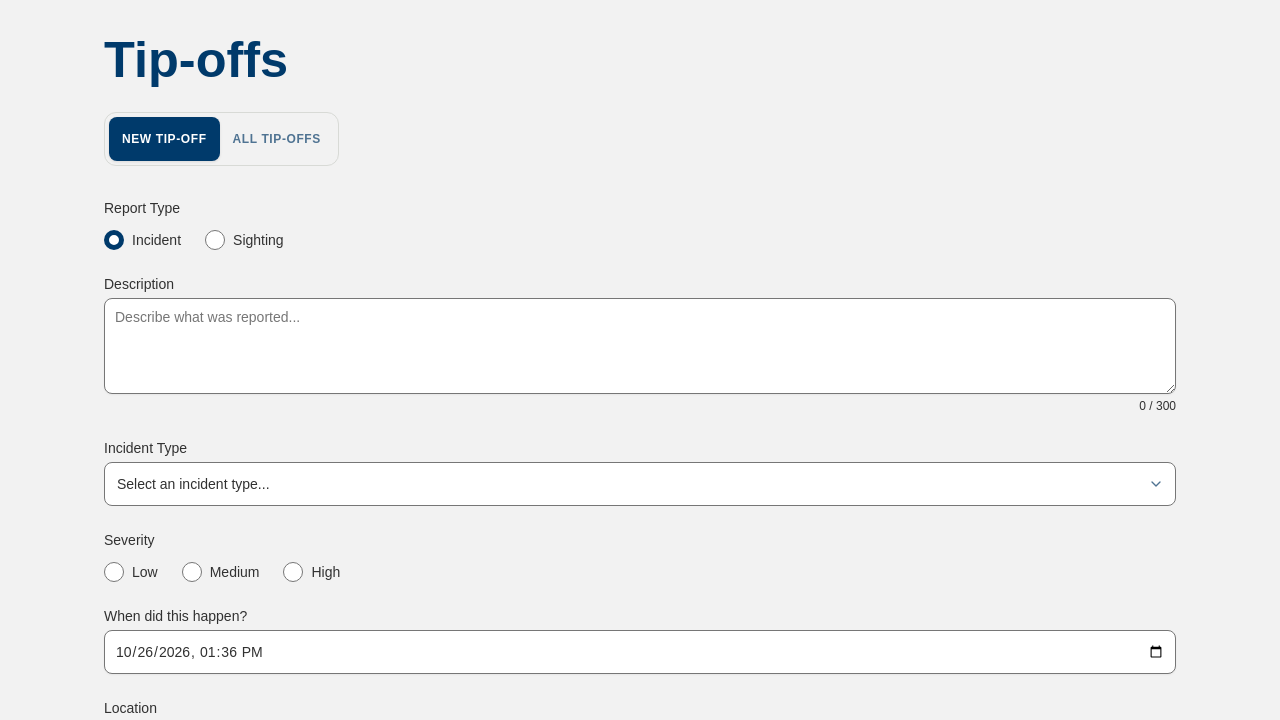
Test case: TipoffPage › fetches and renders tip-offs for an admin
This screenshot has width=1280, height=720.
Click the tab "All Tip-offs".
click(277, 139)  # box [220,117,334,161]
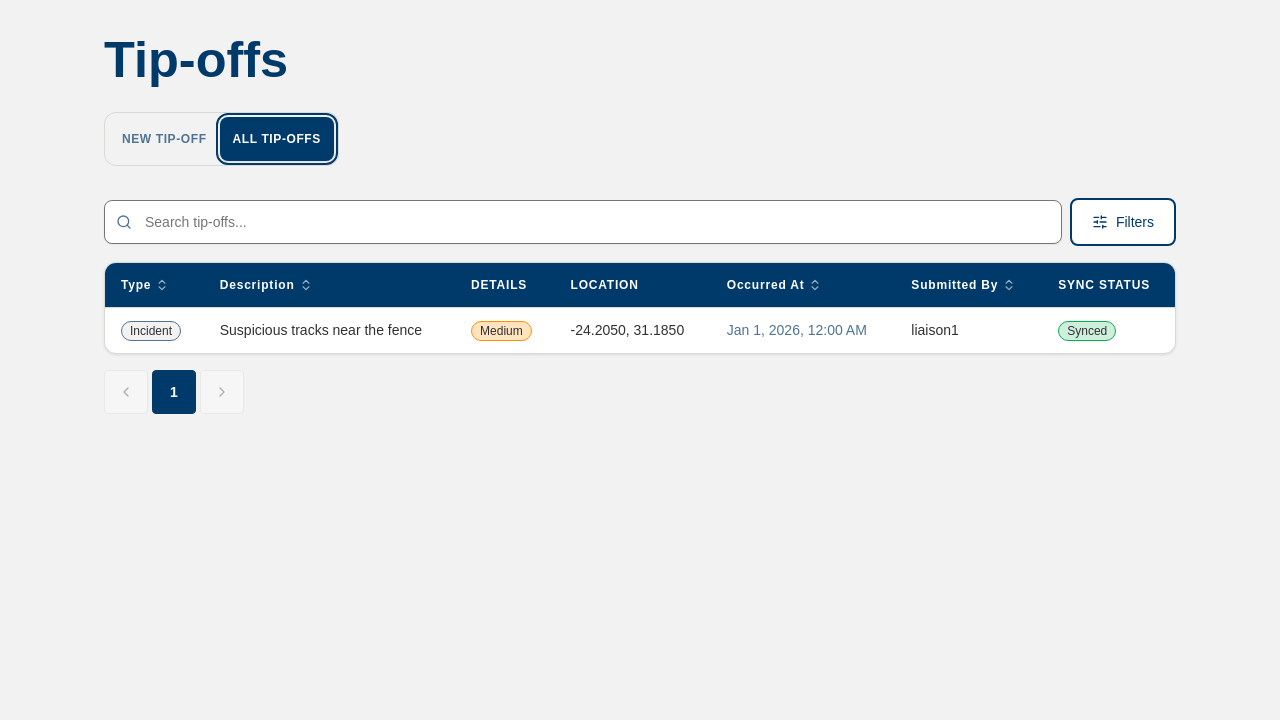
expect the text "Suspicious tracks near the fence" is shown: met, box [204,307,455,353]
